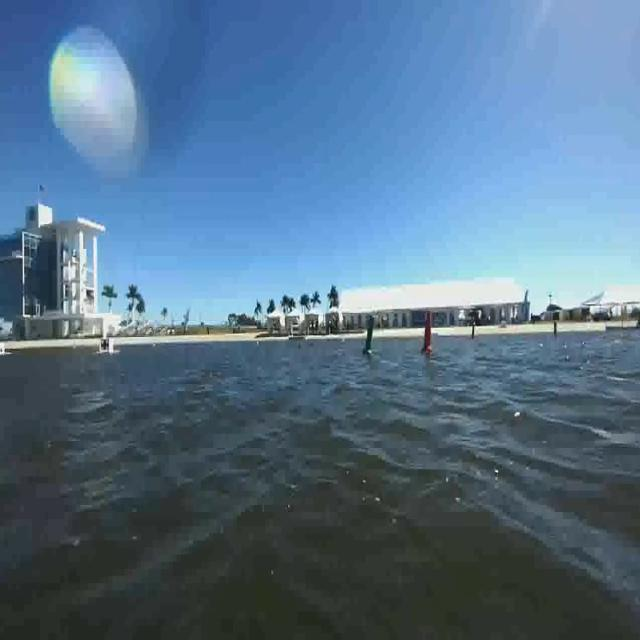green-column-buoy: (362, 316, 376, 357)
red-column-buoy: (422, 313, 436, 357)
